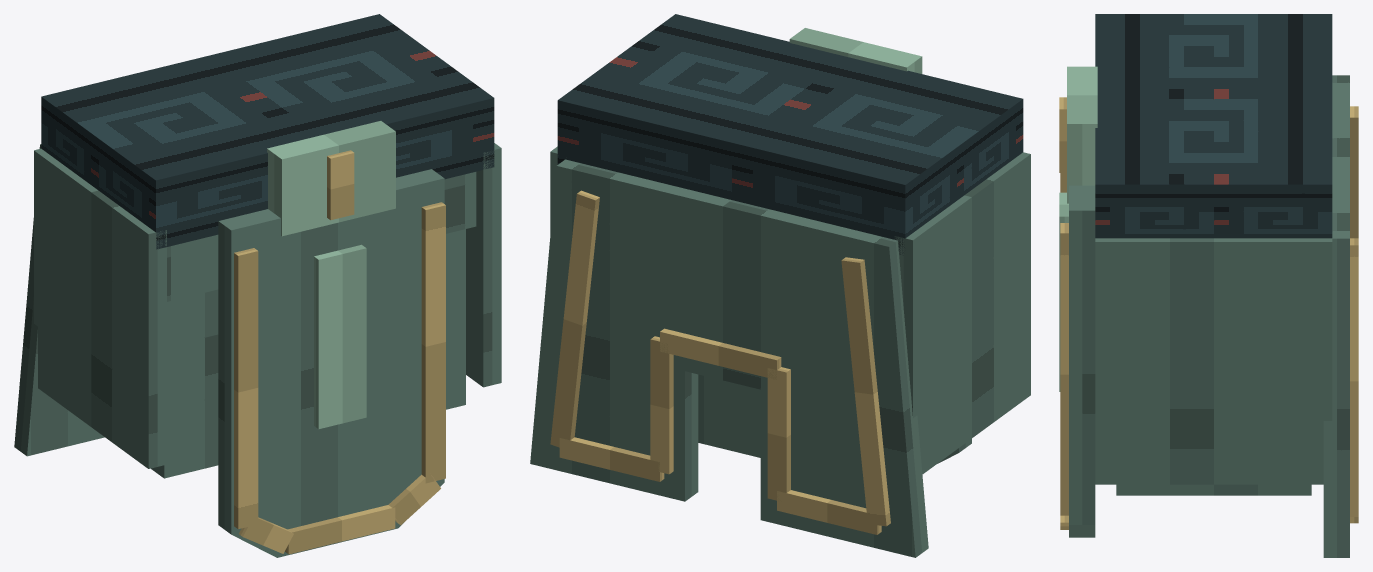
File: huashen_xuanji_leggings.obj
3 renders of one model, left to right at view 1: azimuth 30°, elevation 25°; view 2: azimuth 150°, elevation 25°; view 3: azimuth 270°, elevation 25°, orthographic. The views are drawn at different scales.
Parts seen in each view (by area): view 1: court_waist, court_front_gui, court_side_hem_-1, court_waist_seal, court_trouser_-1, front_gui_center, court_side_hem_1, front_gui_edge_4, front_gui_edge_0, court_back_hem, court_hip, court_trouser_1 (+4 smaller); view 2: court_back_hem, court_waist, court_side_hem_-1, back_gui_stitch_0, back_gui_stitch_6, court_trouser_1, back_gui_stitch_2, back_gui_stitch_4, back_gui_stitch_3, court_waist_seal, back_gui_stitch_5, back_gui_stitch_1 (+1 smaller); view 3: court_side_hem_1, court_waist, court_back_hem, court_front_gui, court_waist_seal, front_gui_edge_4, back_gui_stitch_6, court_trouser_1, back_gui_stitch_0, front_gui_center, court_seal_axis.
Boxes of the visible parts, x1=… form: court_waist: x1=41, y1=14, x2=494, y2=249; court_front_gui: x1=218, y1=169, x2=444, y2=557; court_side_hem_-1: x1=34, y1=148, x2=166, y2=468; court_waist_seal: x1=267, y1=121, x2=395, y2=236; court_trouser_-1: x1=151, y1=289, x2=218, y2=478; front_gui_center: x1=314, y1=244, x2=366, y2=428; court_side_hem_1: x1=466, y1=143, x2=501, y2=387; front_gui_edge_4: x1=421, y1=202, x2=445, y2=483; front_gui_edge_0: x1=234, y1=248, x2=258, y2=529; court_back_hem: x1=14, y1=144, x2=104, y2=456; court_hip: x1=167, y1=172, x2=476, y2=301; court_trouser_1: x1=446, y1=229, x2=465, y2=409; court_back_hem: x1=530, y1=159, x2=928, y2=557; court_waist: x1=557, y1=14, x2=1023, y2=255; court_side_hem_-1: x1=894, y1=152, x2=1030, y2=474; back_gui_stitch_0: x1=841, y1=257, x2=890, y2=526; back_gui_stitch_6: x1=550, y1=190, x2=599, y2=447; court_trouser_1: x1=698, y1=374, x2=745, y2=453; back_gui_stitch_2: x1=767, y1=367, x2=790, y2=500; back_gui_stitch_4: x1=650, y1=336, x2=673, y2=474; back_gui_stitch_3: x1=660, y1=328, x2=781, y2=379; court_waist_seal: x1=789, y1=28, x2=922, y2=73; back_gui_stitch_5: x1=559, y1=437, x2=664, y2=481; back_gui_stitch_1: x1=777, y1=490, x2=881, y2=534; court_side_hem_1: x1=1095, y1=238, x2=1332, y2=484; court_waist: x1=1095, y1=14, x2=1332, y2=238; court_back_hem: x1=1323, y1=75, x2=1349, y2=557; court_front_gui: x1=1069, y1=185, x2=1095, y2=537; court_waist_seal: x1=1067, y1=66, x2=1097, y2=203; front_gui_edge_4: x1=1060, y1=223, x2=1068, y2=515; back_gui_stitch_6: x1=1350, y1=238, x2=1358, y2=516; court_trouser_1: x1=1116, y1=484, x2=1311, y2=495; back_gui_stitch_0: x1=1350, y1=106, x2=1358, y2=238; front_gui_center: x1=1059, y1=192, x2=1068, y2=391; court_seal_axis: x1=1059, y1=97, x2=1066, y2=172.
Bounding box in the file's own units: 0.6375 × 0.6469 × 0.4266.
